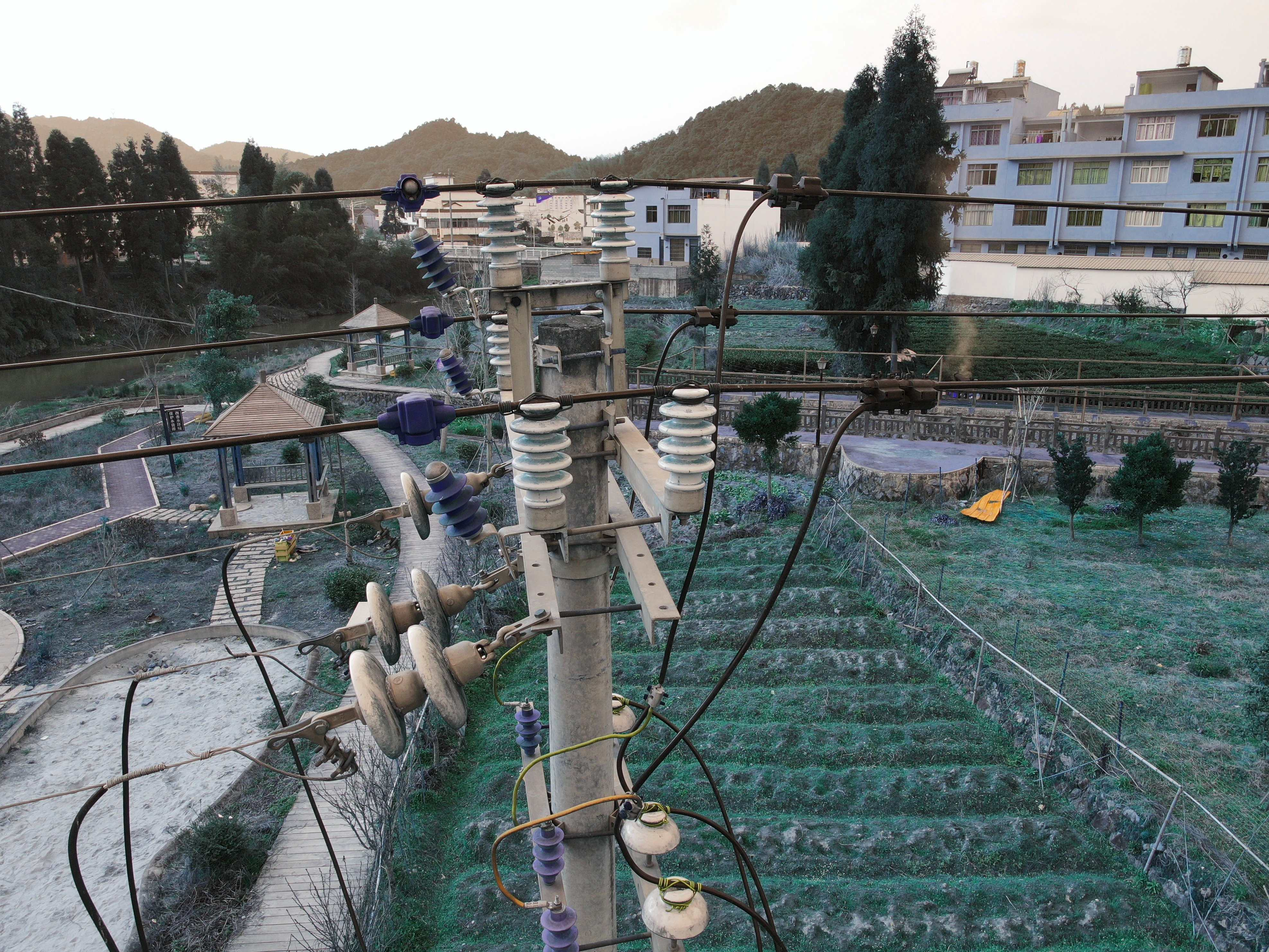severe_soiling_no_discharge_whole: (345, 623, 491, 760), (364, 563, 472, 660), (505, 397, 576, 530), (653, 381, 723, 512), (476, 178, 530, 286), (586, 177, 636, 283), (638, 875, 714, 942), (617, 802, 685, 861), (396, 469, 436, 544), (483, 311, 510, 388), (609, 694, 637, 733)
